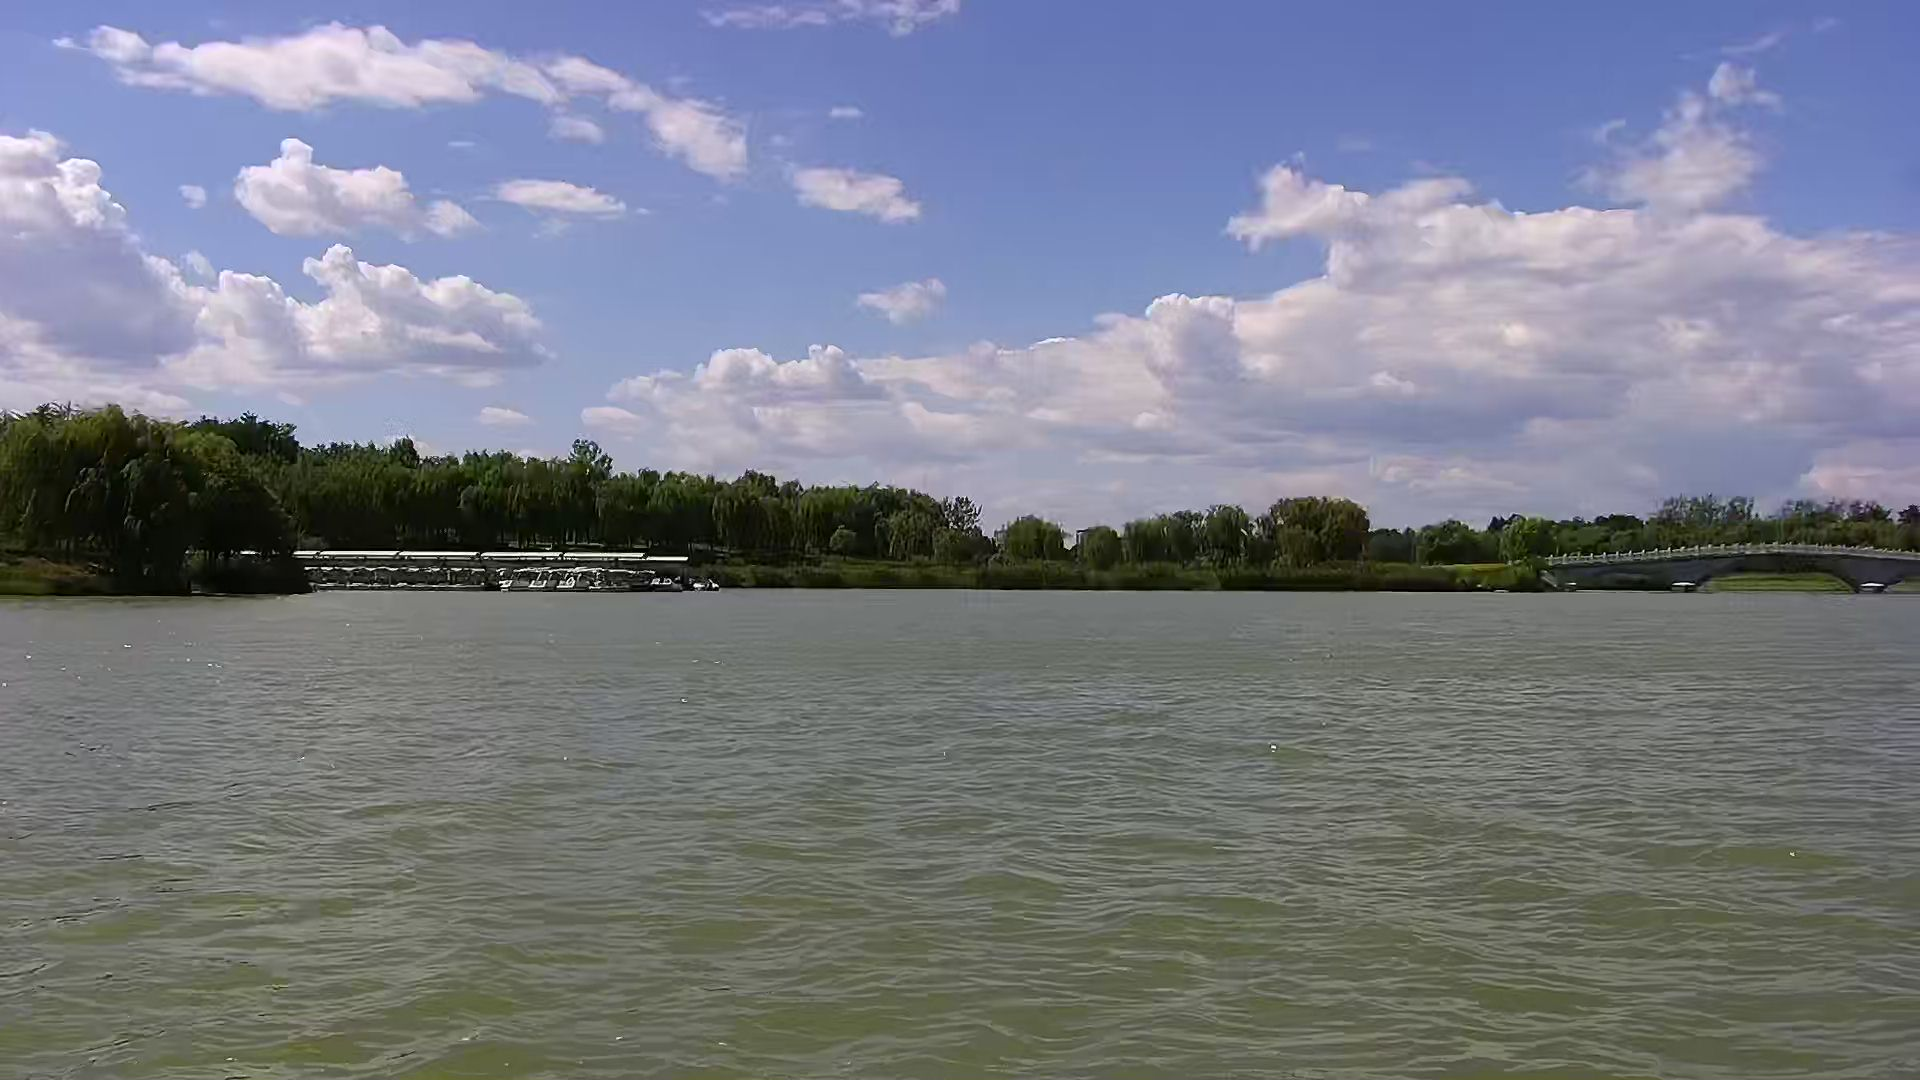bridge: (1548, 545, 1920, 589)
harbor: (295, 549, 712, 597)
